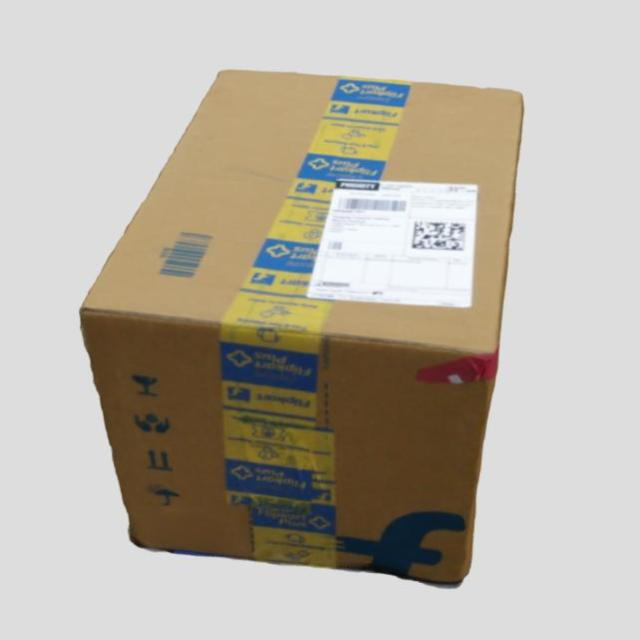box: (81, 71, 522, 585)
